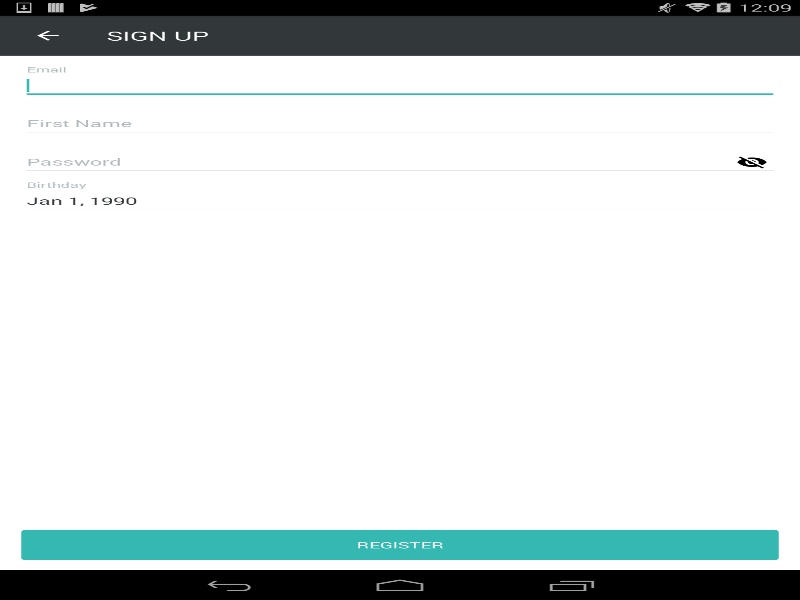Button: (21, 530, 778, 560), (10, 15, 85, 55)
Input: (21, 72, 778, 99), (21, 110, 778, 137), (21, 187, 778, 214), (21, 149, 778, 175)
